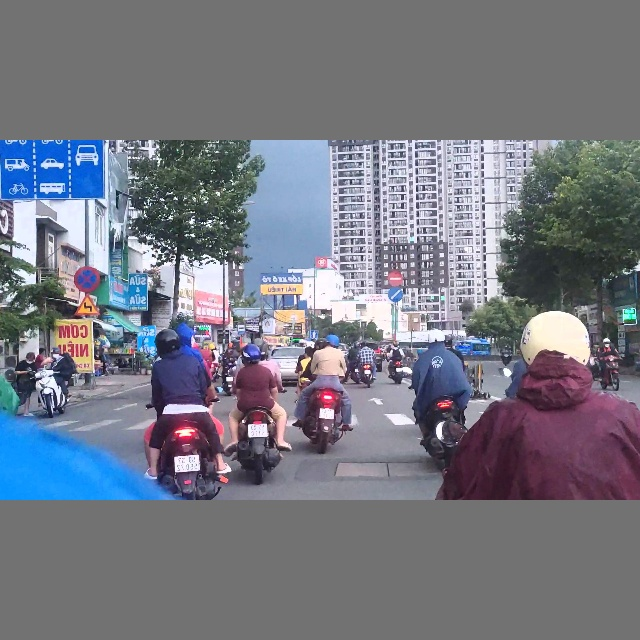I.407a: (310, 329, 318, 339)
I.434a: (237, 324, 245, 335)
P.102: (388, 271, 403, 286)
P.130: (74, 266, 100, 292)
R.302a: (388, 287, 403, 302)
R.415a: (0, 140, 104, 201)
W.202b: (74, 293, 100, 317)
